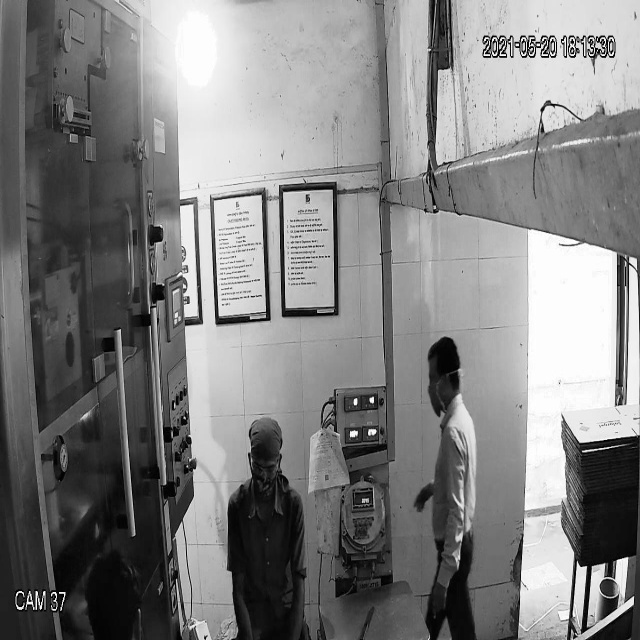Gafas: (248, 448, 281, 482)
